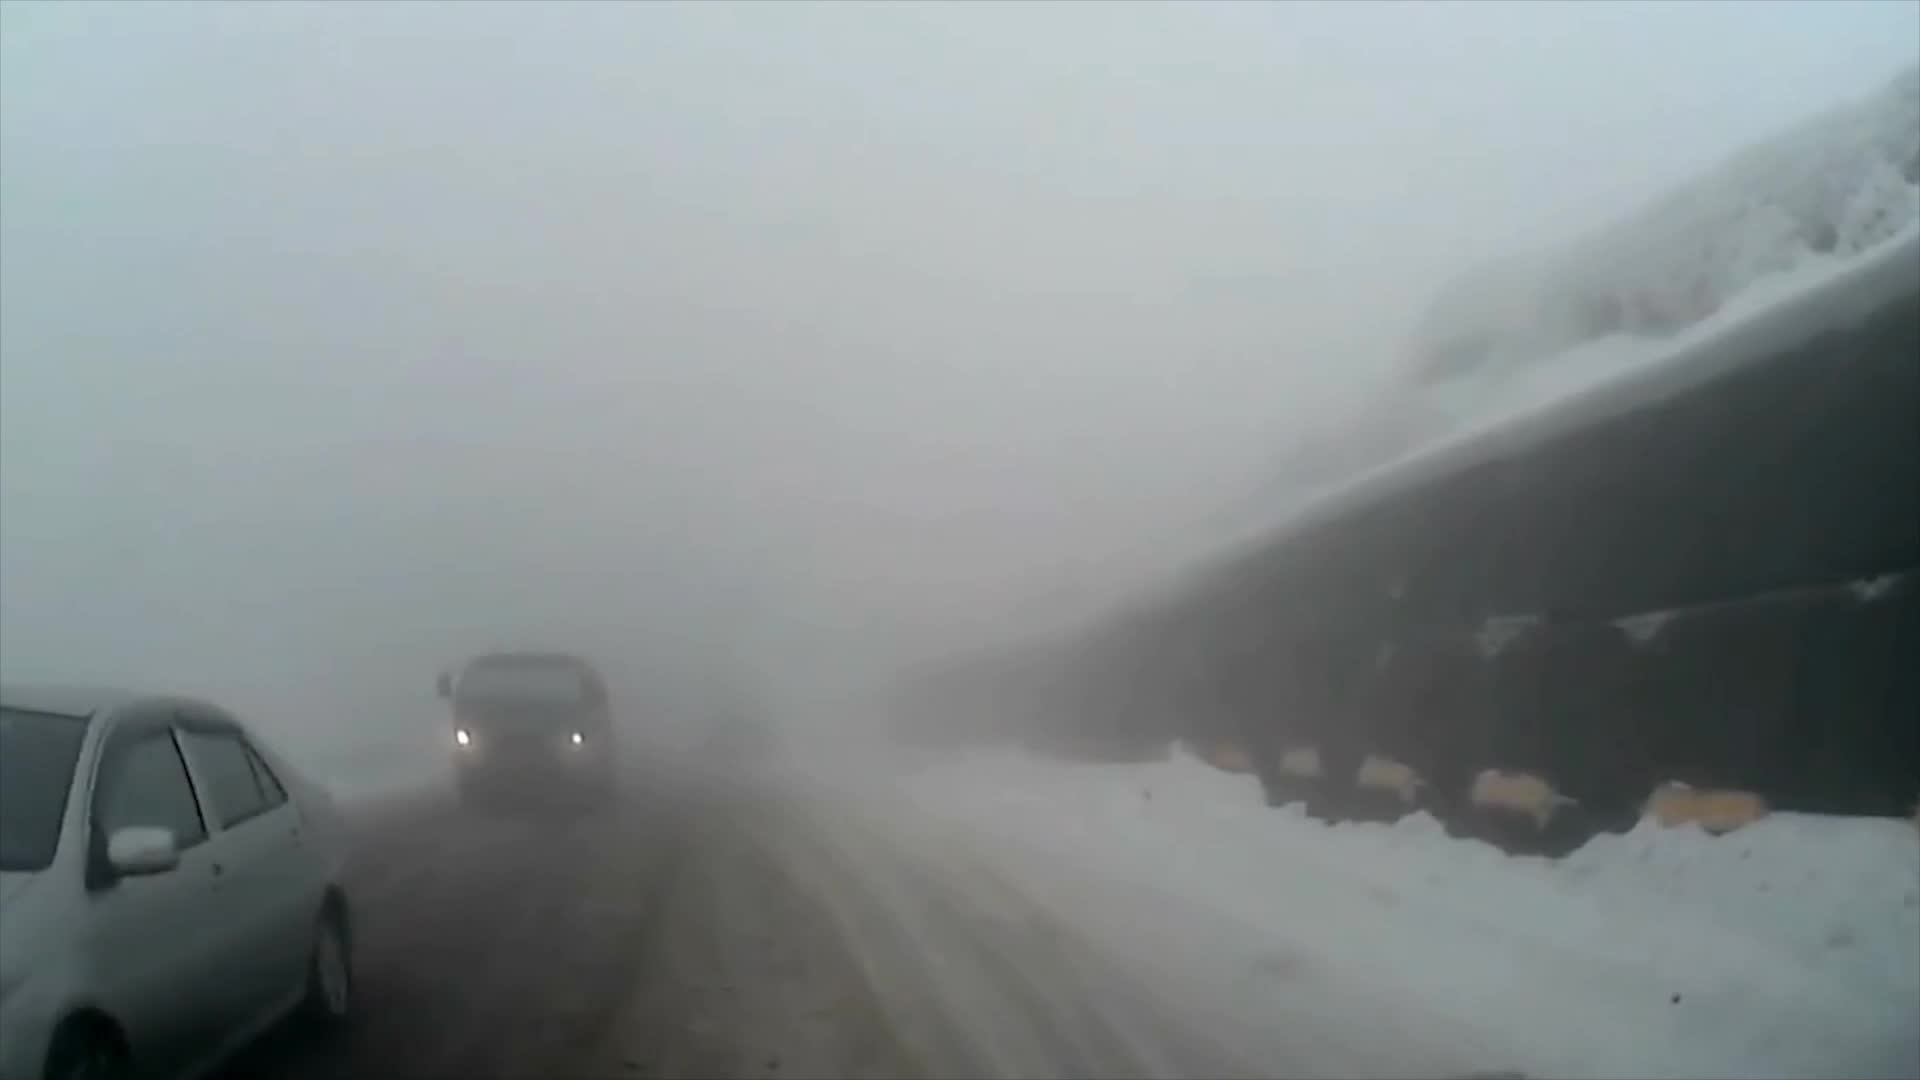vehicle: (0, 678, 355, 1080), (433, 644, 618, 808)
